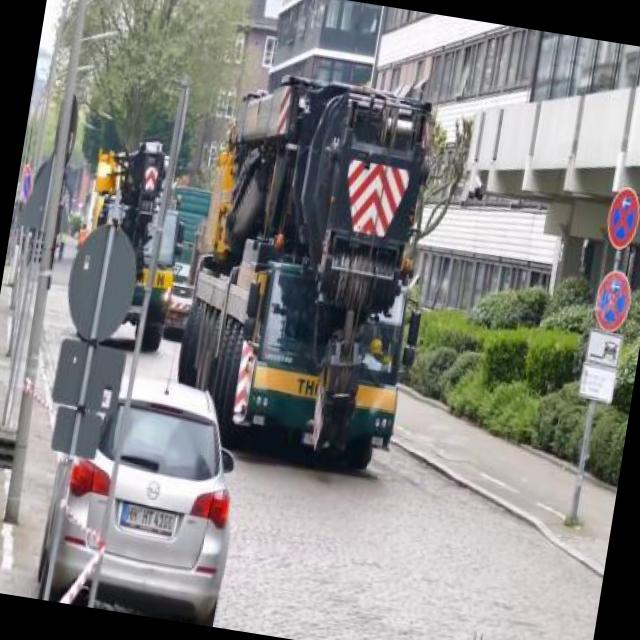Mobile Crane: (167, 57, 447, 482), (66, 140, 196, 352)
